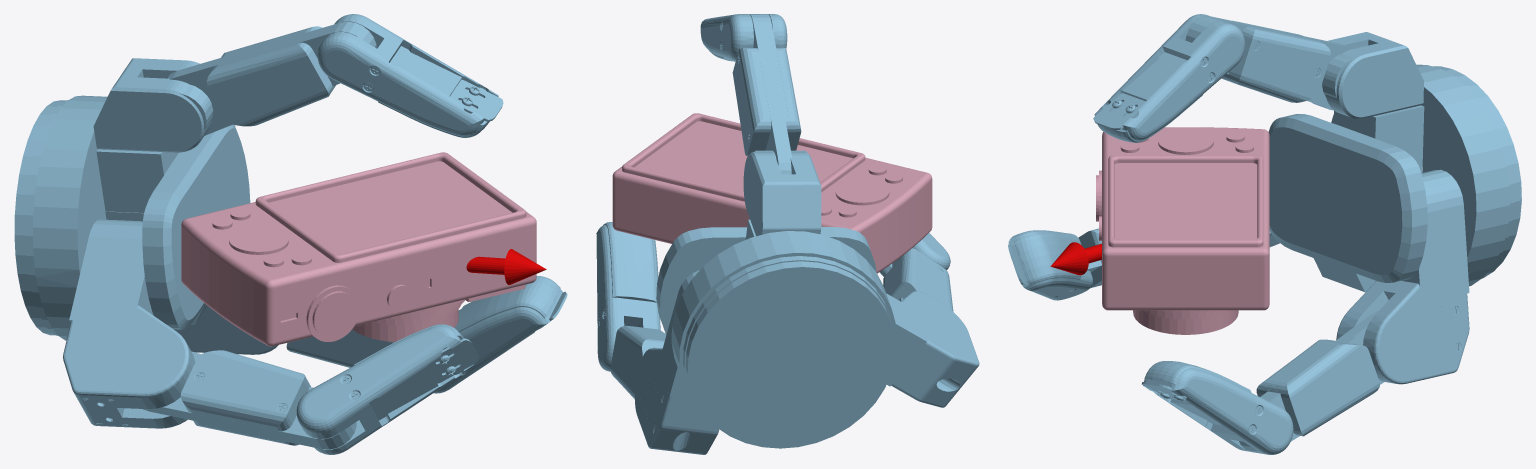
3 views of the same model, side by side, from view 1: azimuth 30°, elevation 25°; view 2: azimuth 150°, elevation 25°; view 3: azimuth 270°, elevation 25° (orthographic). The views are drawn at different scales.
Parts seen in each view (by area): view 1: world, camera.stl; view 2: world, camera.stl; view 3: world, camera.stl.
Part boxes in pixels (x1,y1,x2,y2): world: [14, 14, 567, 454]; camera.stl: [181, 152, 536, 346]; world: [596, 14, 979, 454]; camera.stl: [612, 113, 932, 273]; world: [1008, 14, 1521, 454]; camera.stl: [1096, 127, 1269, 334].
Bounding box in the file's own units: 0.1902 × 0.1632 × 0.1986.
